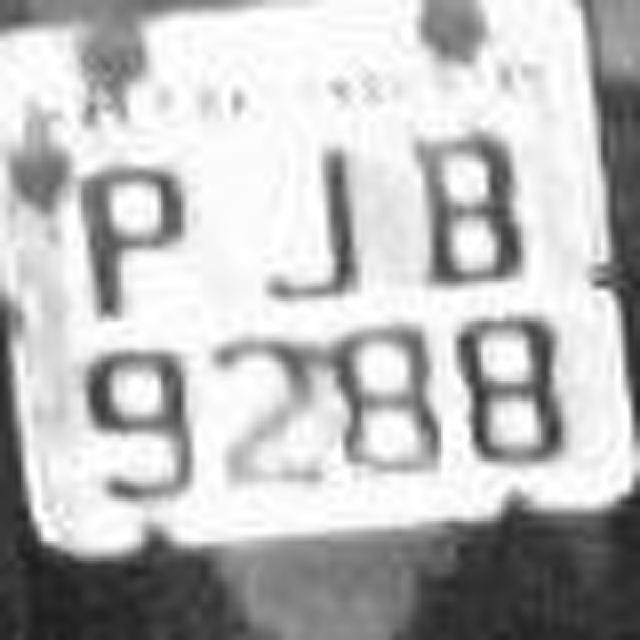2: (164, 305, 351, 520)
8: (425, 288, 580, 504)
9: (32, 295, 232, 520)
B: (385, 112, 560, 320), (296, 296, 456, 504)
J: (220, 124, 408, 324)
P: (72, 124, 208, 324)
